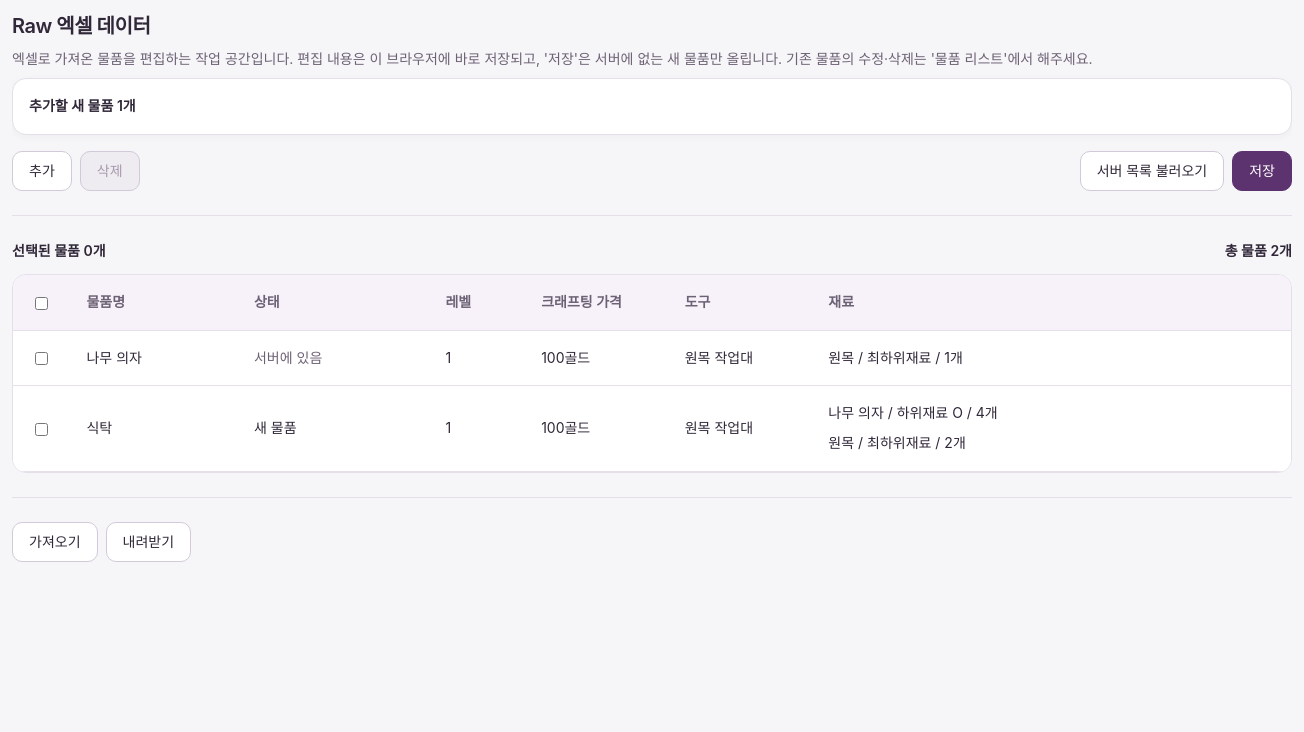
Test: ManageHomePage › 저장 직전에 받은 서버 목록에 같은 이름이 생겼으면 올리지 않는다
Click the button "저장": (1262, 171) [1232,151,1292,191]
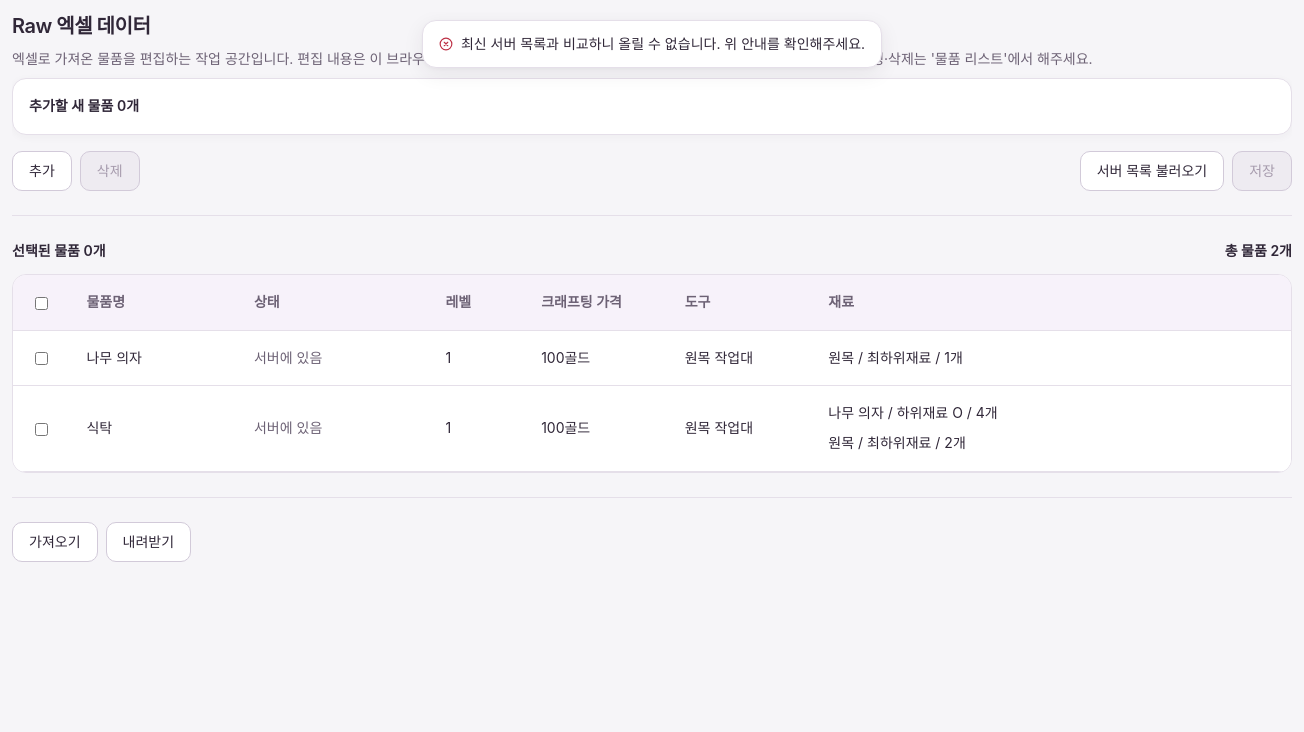
Now the text "최신 서버 목록과 비교하니 올릴 수 없습니다. 위 안내를 확인해주세요." is shown, box [461,33,865,55]
